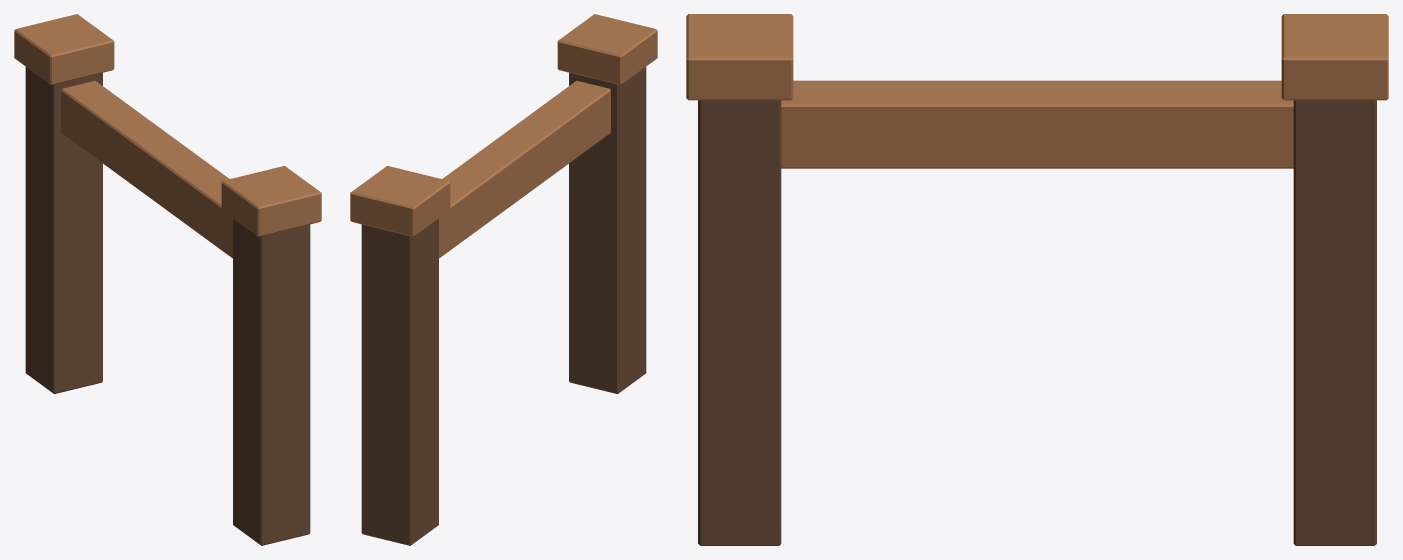
Rendered from wood_bridge_railing_01.glb.
3 views of the same model, side by side, from view 1: azimuth 30°, elevation 25°; view 2: azimuth 150°, elevation 25°; view 3: azimuth 270°, elevation 25° (orthographic). The views are drawn at different scales.
Parts seen in each view (by area): view 1: wood_bridge_railing_01; view 2: wood_bridge_railing_01; view 3: wood_bridge_railing_01.
Part boxes in pixels (left/top/right/bottom): wood_bridge_railing_01: left=14, top=14, right=321, bottom=545; wood_bridge_railing_01: left=350, top=14, right=657, bottom=545; wood_bridge_railing_01: left=686, top=14, right=1388, bottom=545.
Bounding box in the file's own units: 0.18 × 0.915 × 1.18.
